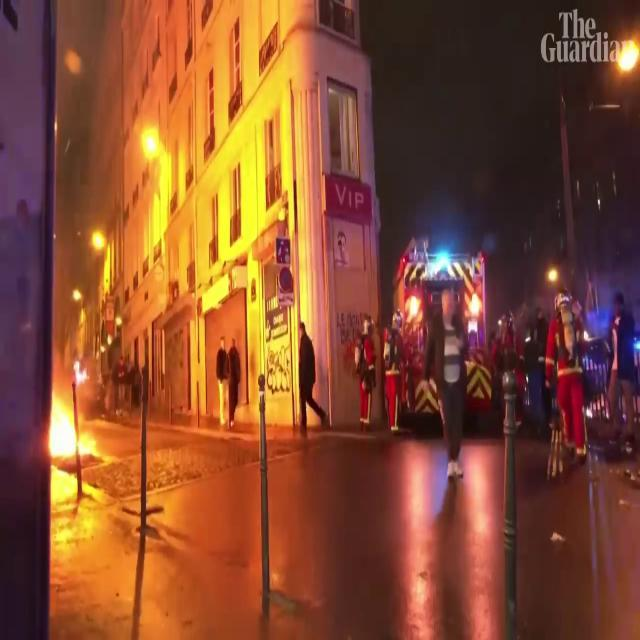Fire: (45, 370, 85, 470)
